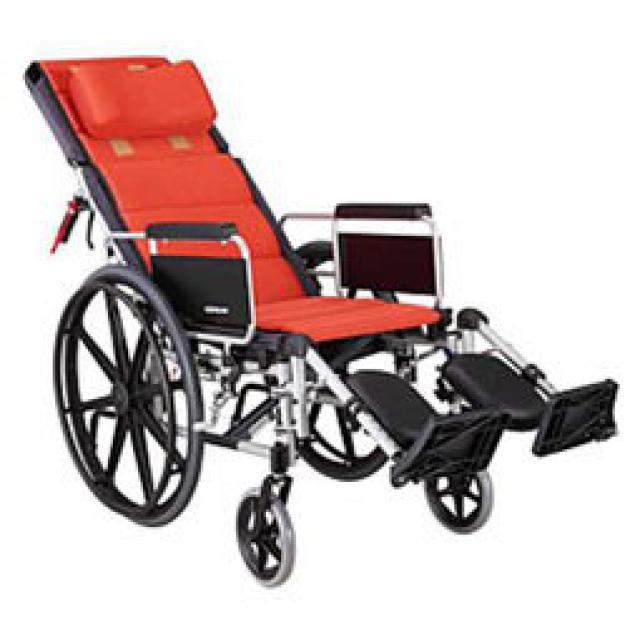wheelchair: (15, 50, 638, 590)
